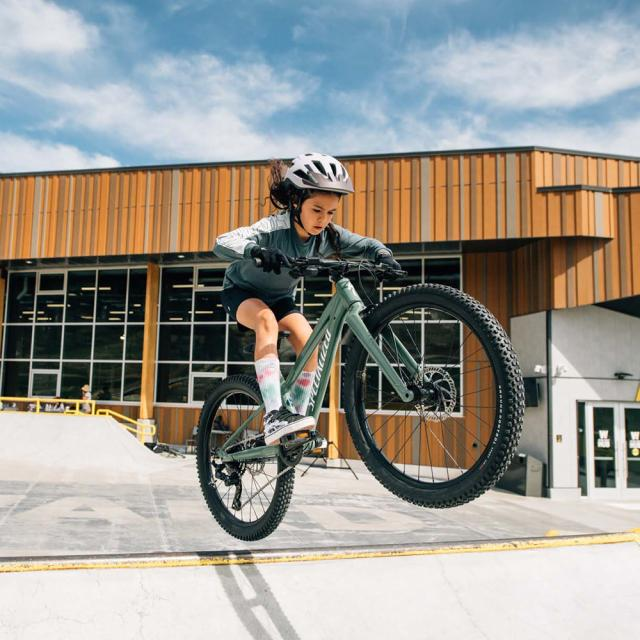bicycle: (200, 246, 533, 560)
